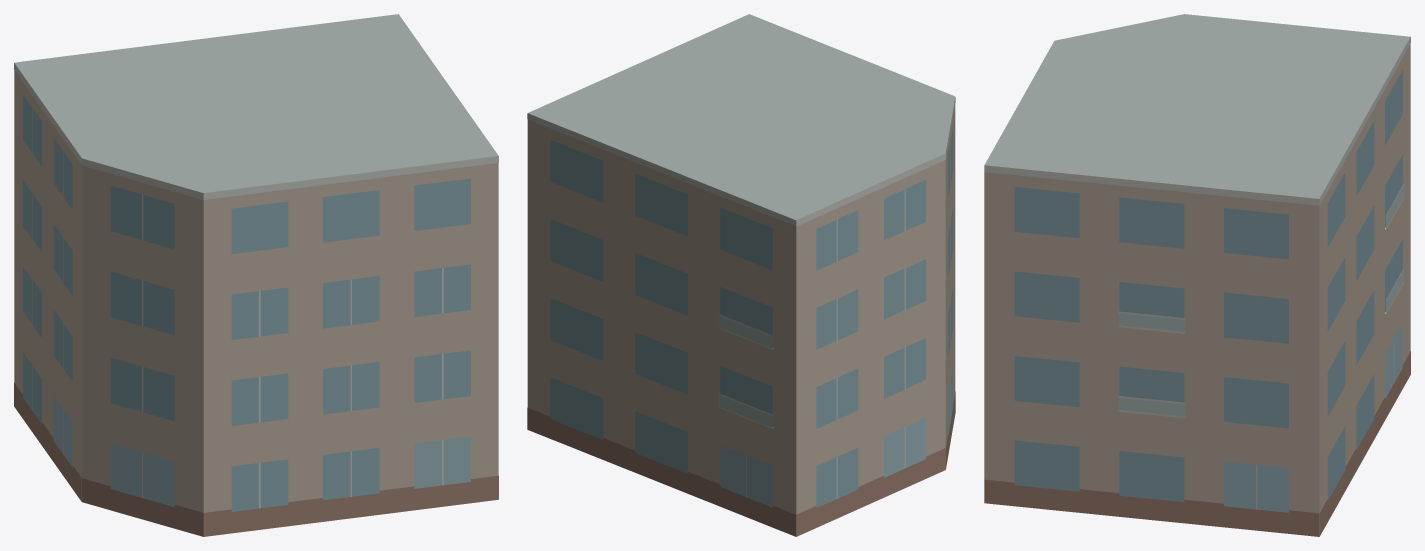
File: residential-c2b01954-d9cc-4bdd-abc7-bfd9a86b204b.glb
3 renders of one model, left to right at view 1: azimuth 30°, elevation 25°; view 2: azimuth 150°, elevation 25°; view 3: azimuth 270°, elevation 25°, orthographic. The views are drawn at different scales.
Parts seen in each view (by area): view 1: residential-c2b01954-d9cc-4bdd-abc7-bfd9a86b204b.tmp; view 2: residential-c2b01954-d9cc-4bdd-abc7-bfd9a86b204b.tmp; view 3: residential-c2b01954-d9cc-4bdd-abc7-bfd9a86b204b.tmp.
Part boxes in pixels (bbox=[...]): residential-c2b01954-d9cc-4bdd-abc7-bfd9a86b204b.tmp: bbox=[14, 14, 498, 536]; residential-c2b01954-d9cc-4bdd-abc7-bfd9a86b204b.tmp: bbox=[527, 14, 955, 536]; residential-c2b01954-d9cc-4bdd-abc7-bfd9a86b204b.tmp: bbox=[984, 14, 1410, 536].
Size of the model in its own units: 14.33 by 12.2 by 13.96.
